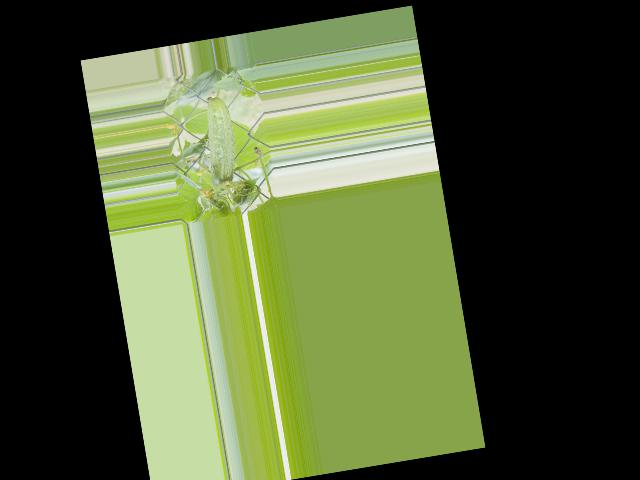cucumber: (198, 90, 242, 191)
